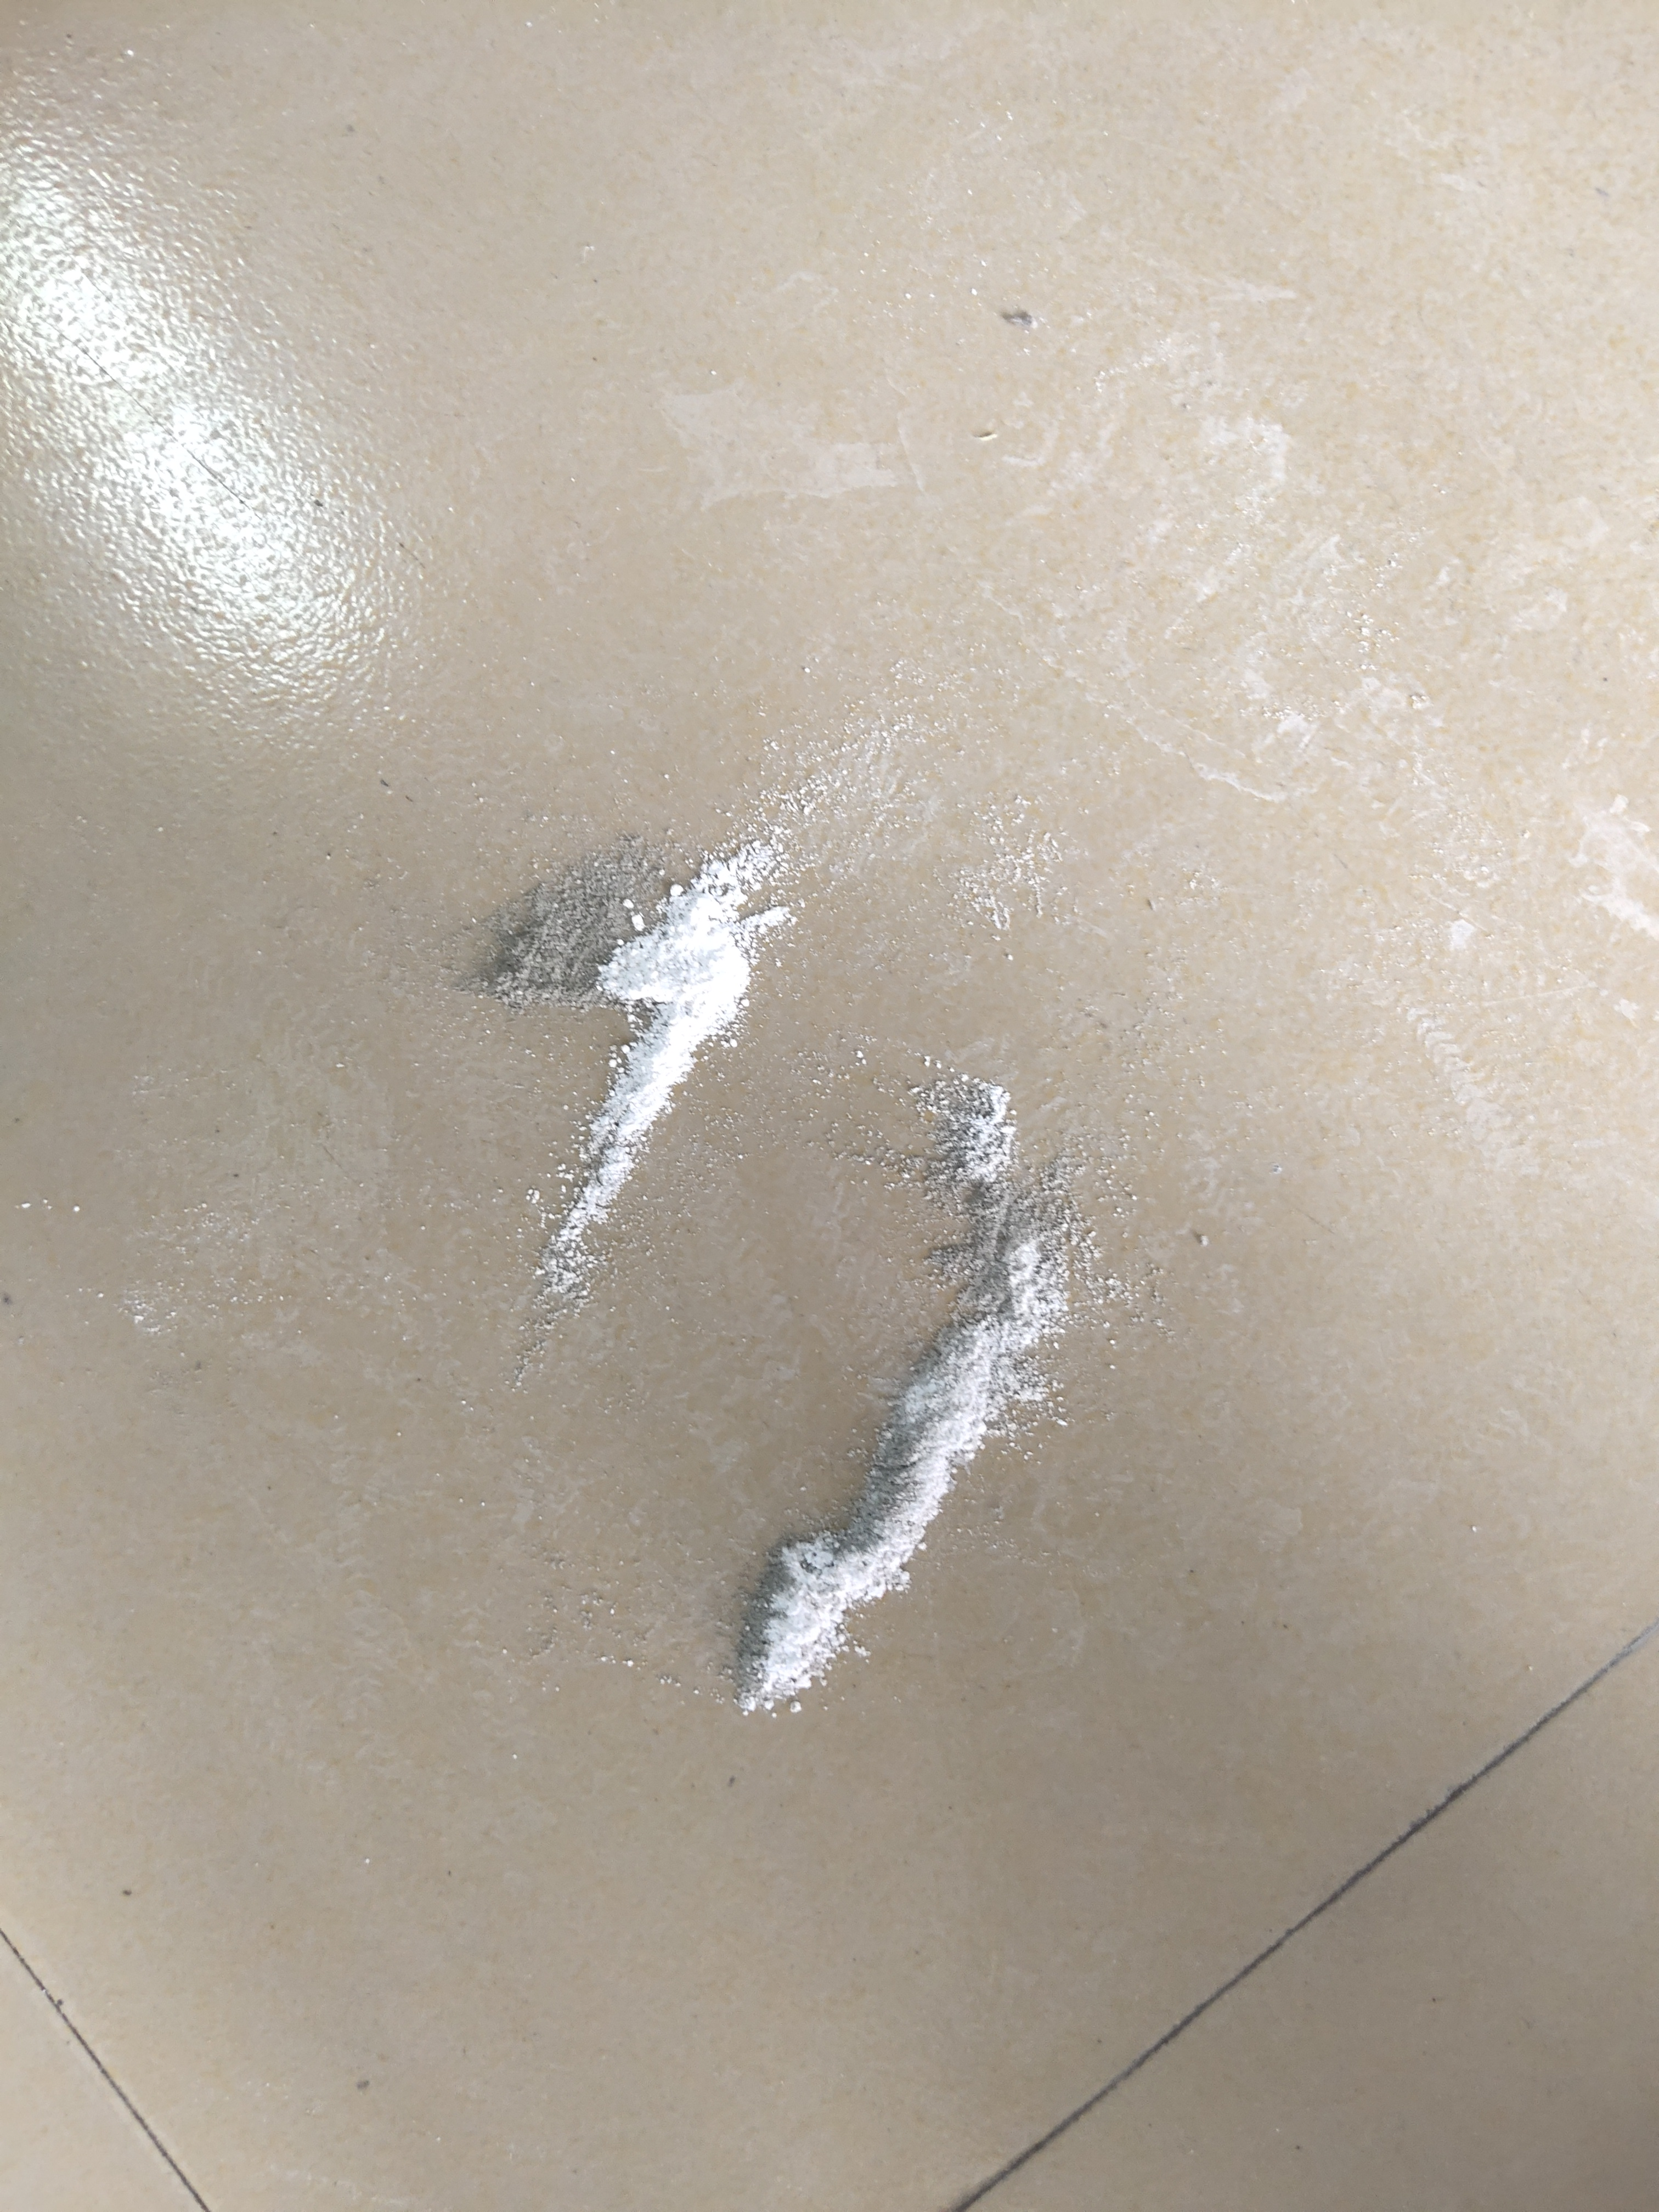ash pile: (737, 1062, 1143, 1721), (443, 829, 800, 1320)
reflection: (0, 122, 385, 698)
